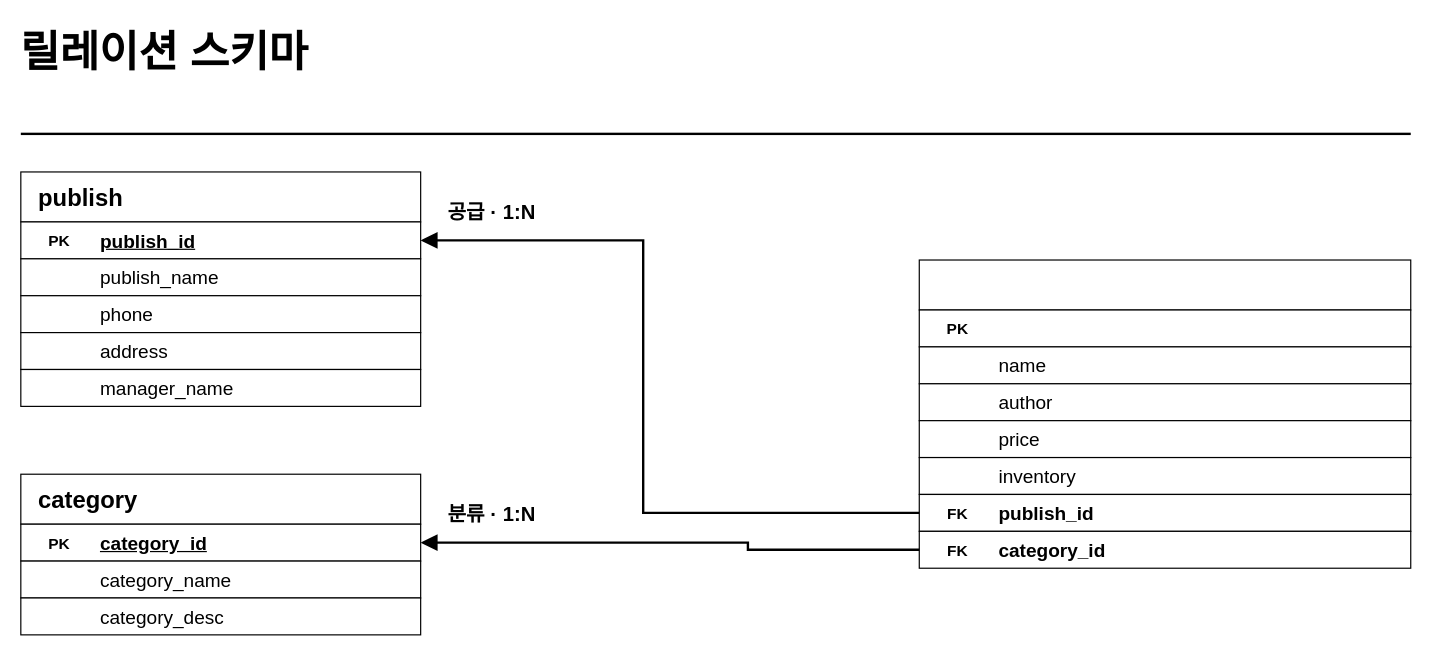
Image size: 1432x656. Some labels were removed from this diagram. The shapes that lost their labels are listed below. From the top down, each one's box as (x1, y1, x2, y2) in pixels, then its label:
(918, 259, 1411, 310): book
(918, 309, 1411, 347): isbn
